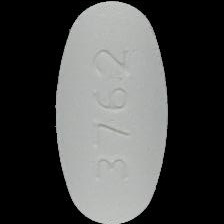0615-5539: (0, 0, 224, 224)
